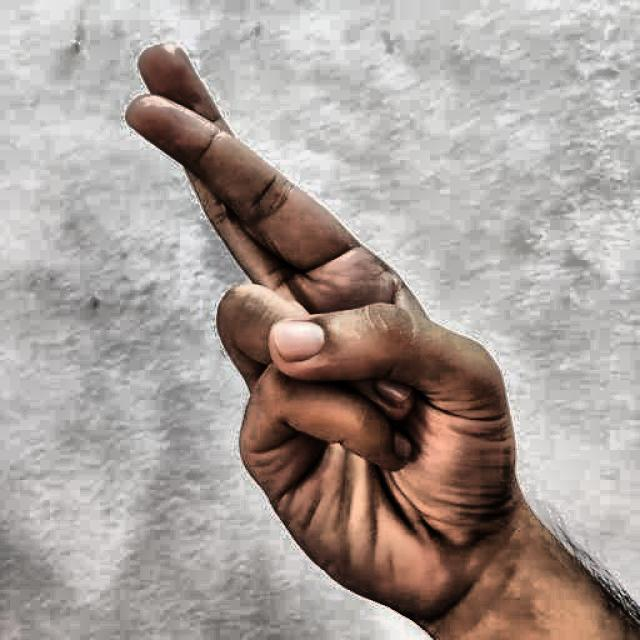Ra: (90, 19, 554, 640)
